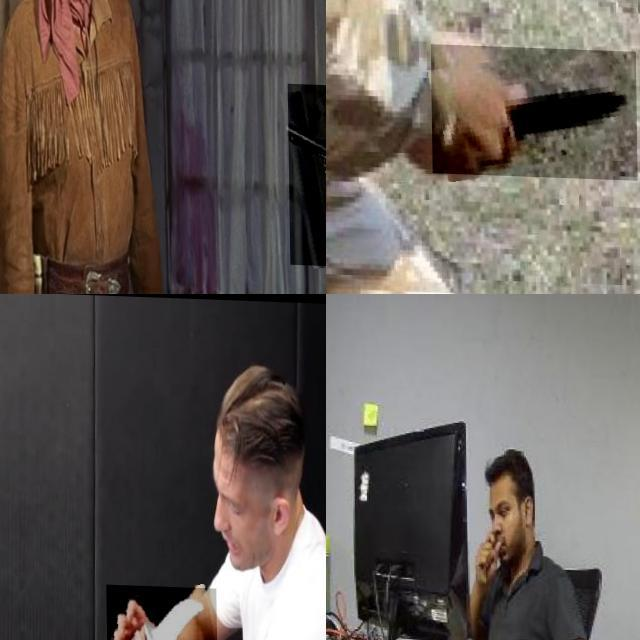-: (430, 42, 637, 177), (105, 581, 216, 640)
gun-knife-thesis - v11 Yolov5 augmented: (286, 80, 326, 264)
